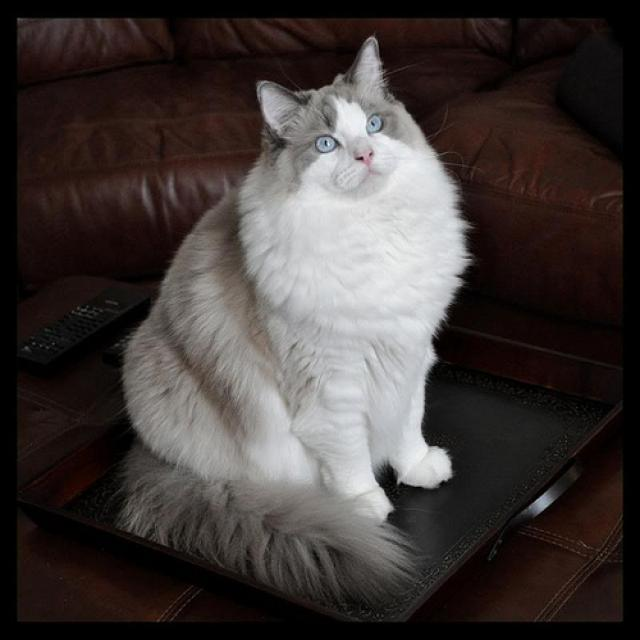Ragdoll: (250, 29, 442, 226)
